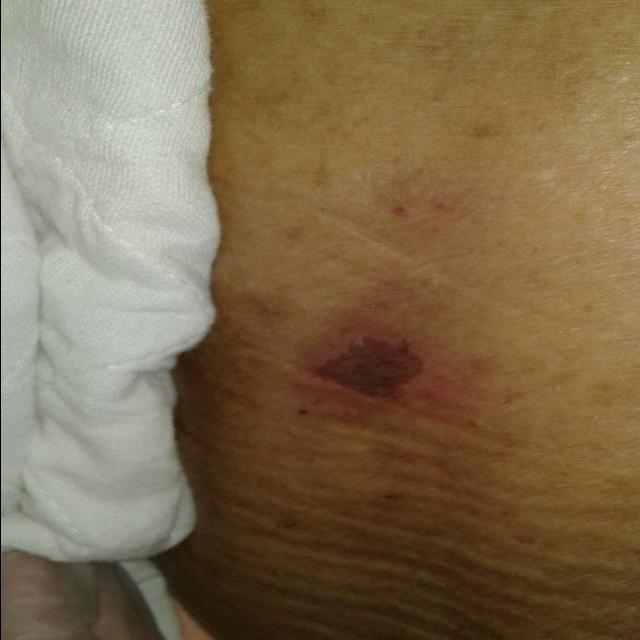DTI: (325, 344, 421, 396)
